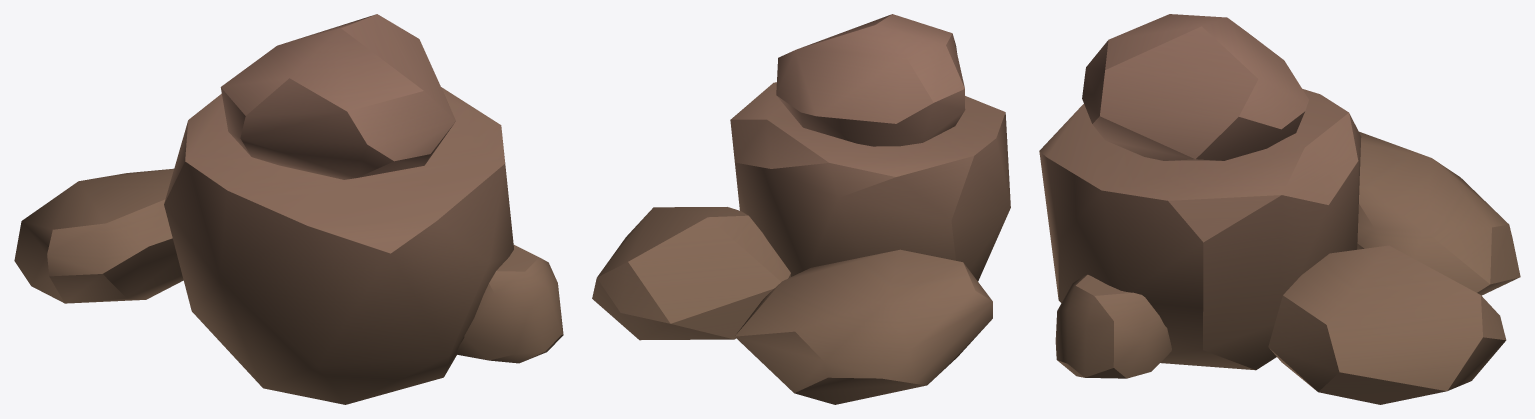
Rendered from Stone03.fbx.
3 renders of one model, left to right at view 1: azimuth 30°, elevation 25°; view 2: azimuth 150°, elevation 25°; view 3: azimuth 270°, elevation 25°, orthographic. The views are drawn at different scales.
Visible parts, largest first — view 1: Stone03; view 2: Stone03; view 3: Stone03.
Boxes of the visible parts, box(x1,y1,x2,y2) form: Stone03: box(14, 14, 563, 404); Stone03: box(592, 14, 1010, 404); Stone03: box(1039, 14, 1520, 404).
Size of the model in its own units: 382 by 271 by 382.
